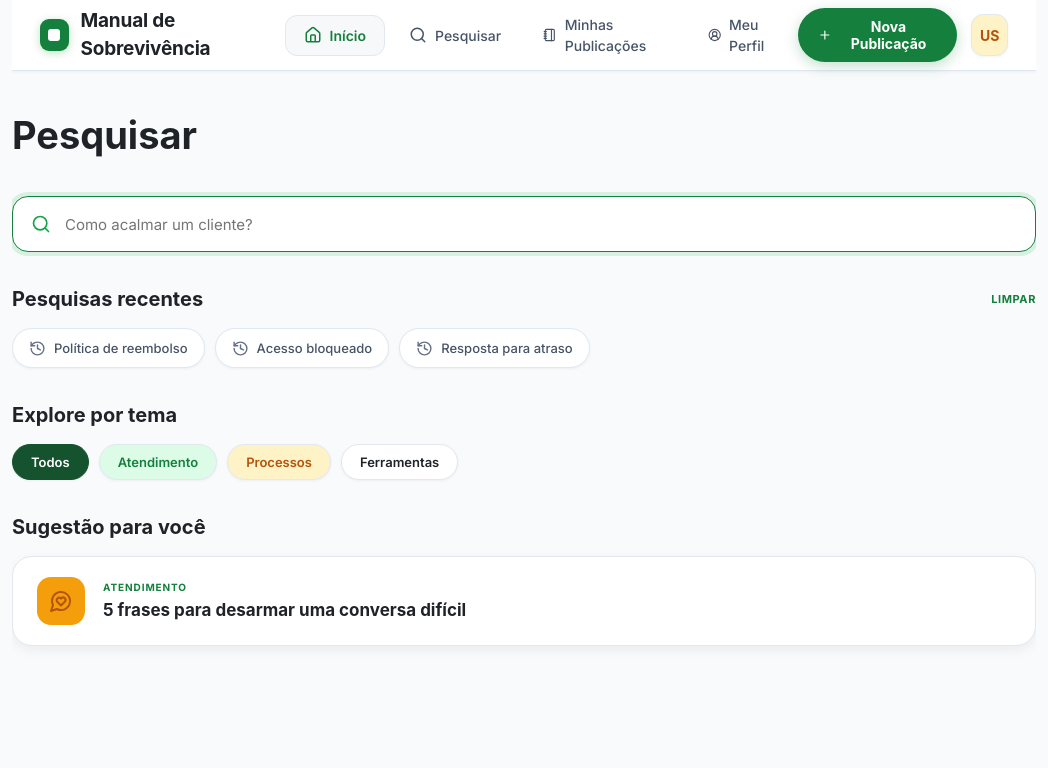
Search Page › permite limpar a busca digitada com o botão de limpar
This screenshot has width=1048, height=768.
In the field with placeholder "Como acalmar um cliente?": point(541, 224) 65,214 -> 1017,234, type "irritado"
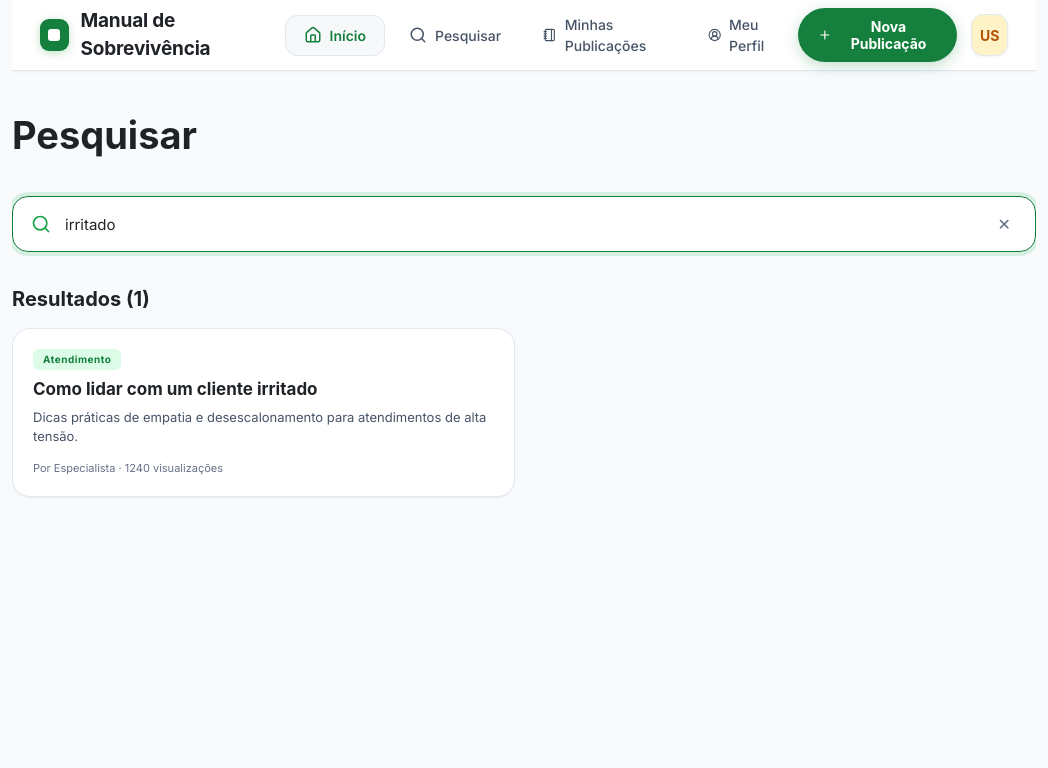
Click the button named "Limpar texto": point(1004, 224) 992,208 -> 1017,240
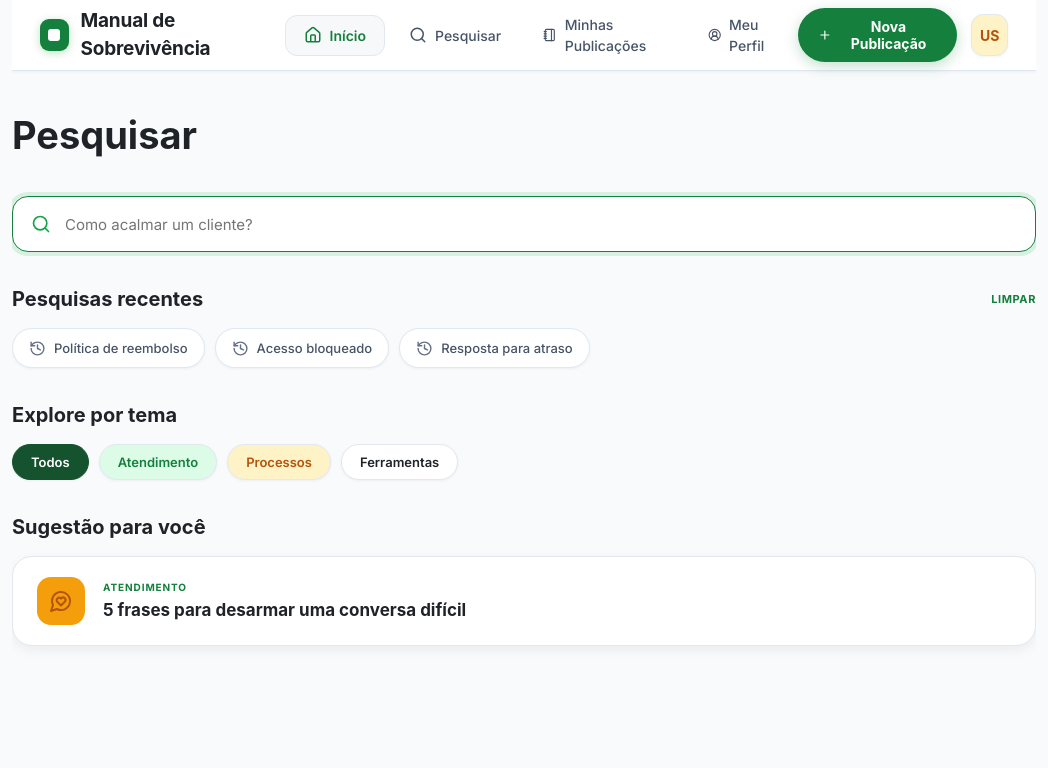
Expected: the field with placeholder "Como acalmar um cliente?" is empty, 65,214 -> 1017,234
Expected: the heading "Pesquisas recentes" is shown, 12,284 -> 203,314
